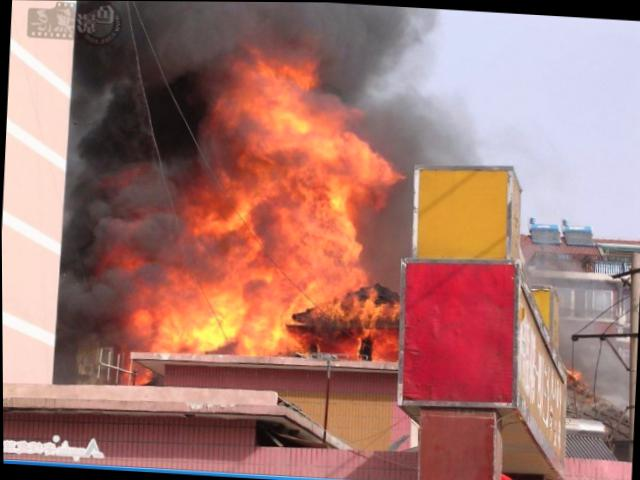fire: (188, 199, 366, 295), (208, 47, 322, 152), (152, 286, 301, 359), (228, 143, 341, 210), (312, 131, 394, 210), (320, 289, 401, 321), (371, 327, 401, 361)
smoke: (80, 0, 435, 63), (56, 50, 198, 206)
